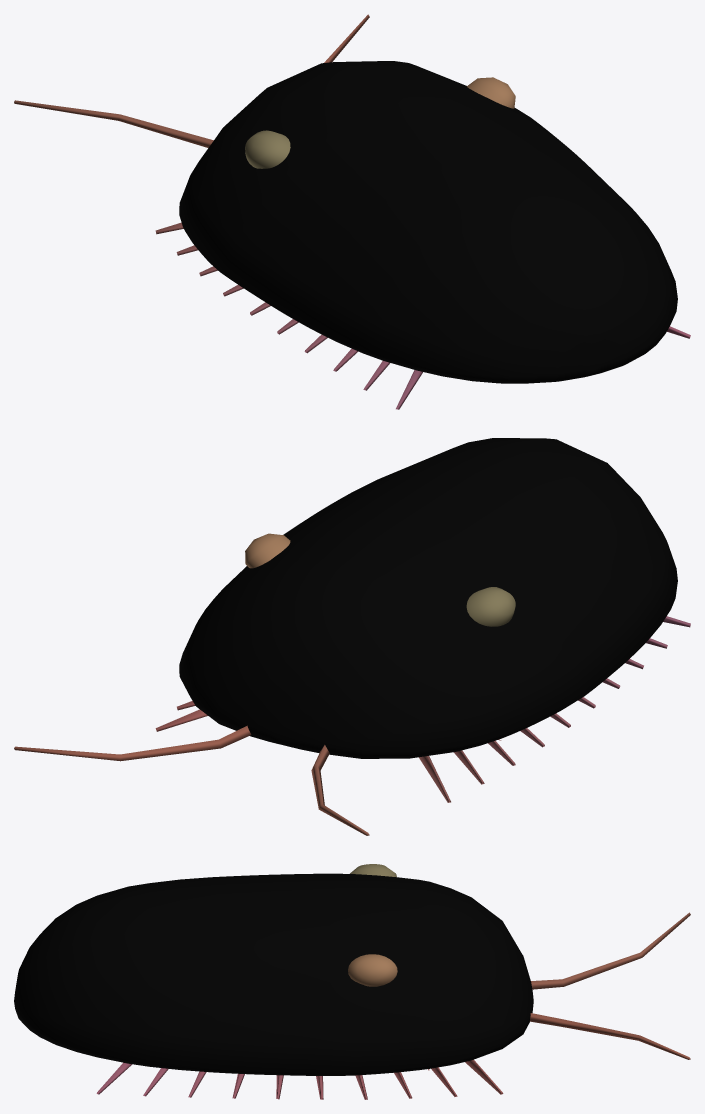
Rendered from trilobite_smooth_game.glb.
3 renders of one model, top to bottom at view 1: azimuth 30°, elevation 25°; view 2: azimuth 150°, elevation 25°; view 3: azimuth 270°, elevation 25°, orthographic. The views are drawn at different scales.
Visible parts, largest first — view 1: trilobite_smooth_game; view 2: trilobite_smooth_game; view 3: trilobite_smooth_game.
Boxes of the visible parts, bbox=[...] form: trilobite_smooth_game: bbox=[14, 14, 690, 409]; trilobite_smooth_game: bbox=[14, 438, 690, 835]; trilobite_smooth_game: bbox=[14, 864, 690, 1099].
Size of the model in its own units: 0.102 by 0.0463 by 0.1954.
